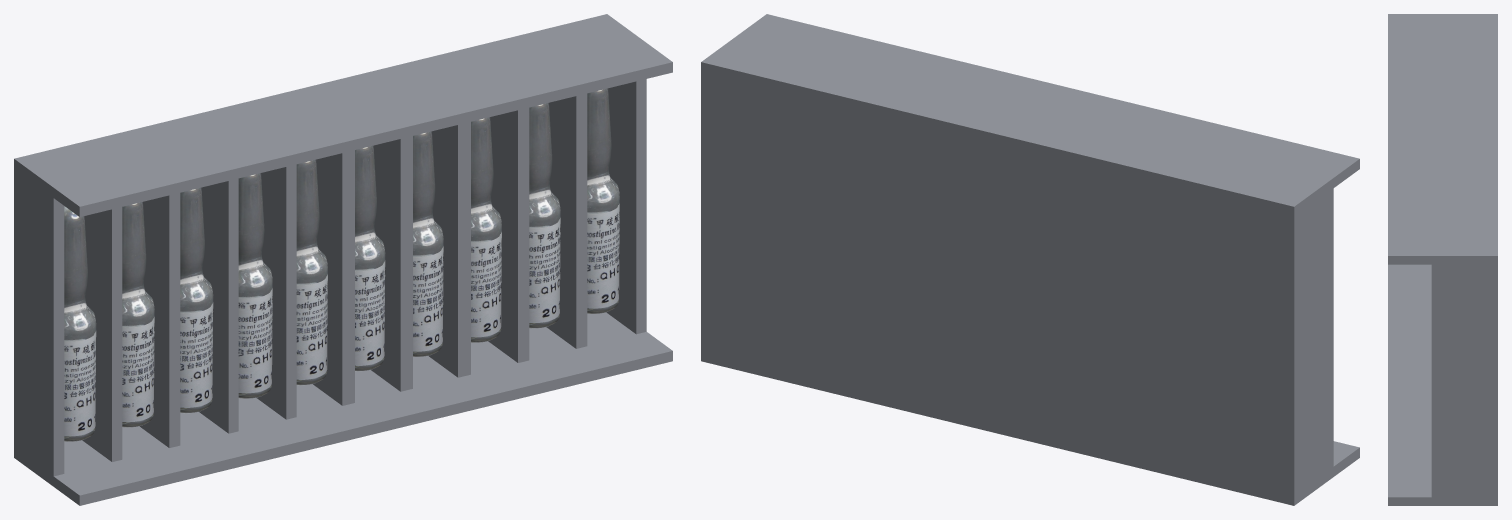
The model's file is 20160203GOPHDRGPT40979.fbx.
The picture shows the model from 3 angles, left to right: view 1: azimuth 30°, elevation 25°; view 2: azimuth 150°, elevation 25°; view 3: azimuth 270°, elevation 25°; orthographic projection. The views are drawn at different scales.
Parts seen in each view (by area): view 1: 球體.021; view 2: 球體.021; view 3: 球體.021.
Boxes of the visible parts, <box> form: 球體.021: <box>14,14,672,505</box>; 球體.021: <box>701,14,1359,505</box>; 球體.021: <box>1388,14,1497,505</box>.
Bounding box in the file's own units: 895 × 431 × 172.
